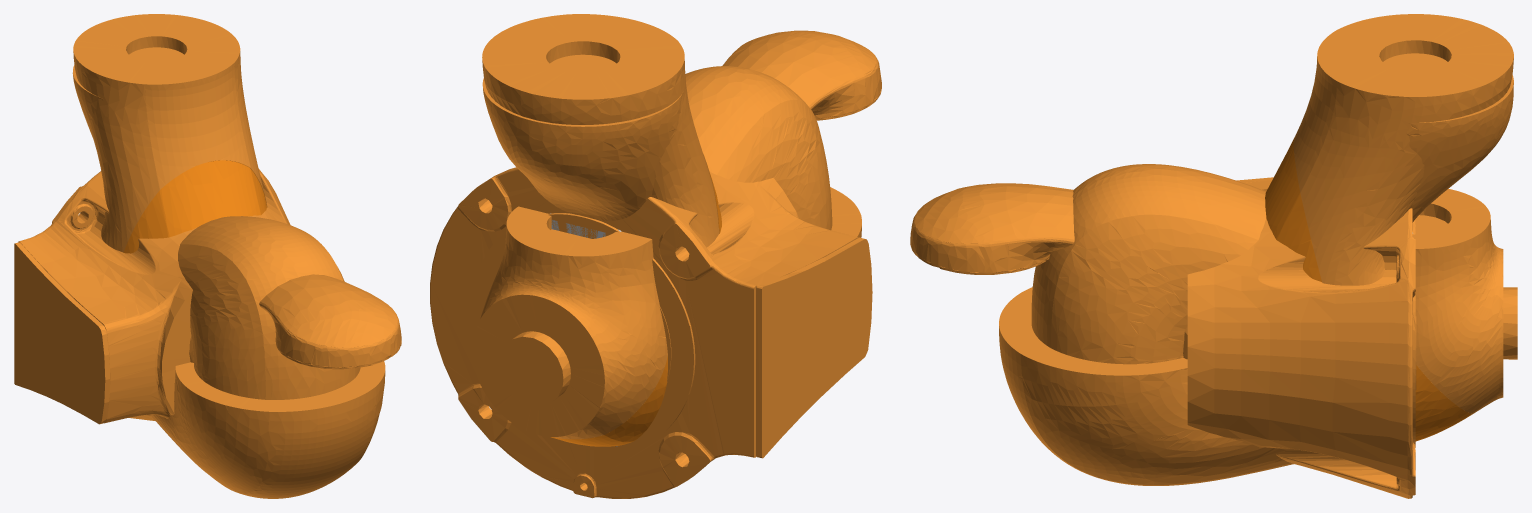
Rendered from arm.glb.
3 renders of one model, left to right at view 1: azimuth 30°, elevation 25°; view 2: azimuth 150°, elevation 25°; view 3: azimuth 270°, elevation 25°, orthographic. The views are drawn at different scales.
Parts seen in each view (by area): view 1: b3, b1, b4, b2, b6, b5; view 2: b1, b7, b3, b4, b5, b6, b2; view 3: b1, b3, b4, b2, b7, b6, b5.
Boxes of the visible parts, x1,y1,x2,y2 form: b3: (73,14,267,253); b1: (14,169,290,424); b4: (178,216,360,399); b2: (150,361,385,498); b6: (189,274,401,369); b5: (72,65,103,137); b1: (430,167,872,498); b7: (472,206,667,446); b3: (473,14,721,451); b4: (685,66,832,230); b5: (482,78,683,380); b6: (722,30,881,120); b2: (474,187,861,451); b1: (1187,177,1415,498); b3: (1265,14,1513,447); b4: (1031,164,1266,364); b2: (999,287,1293,485); b7: (1412,189,1517,441); b6: (910,183,1187,359); b5: (1406,75,1513,389).
Size of the model in its own units: 0.2573 by 0.3259 by 0.4201.
